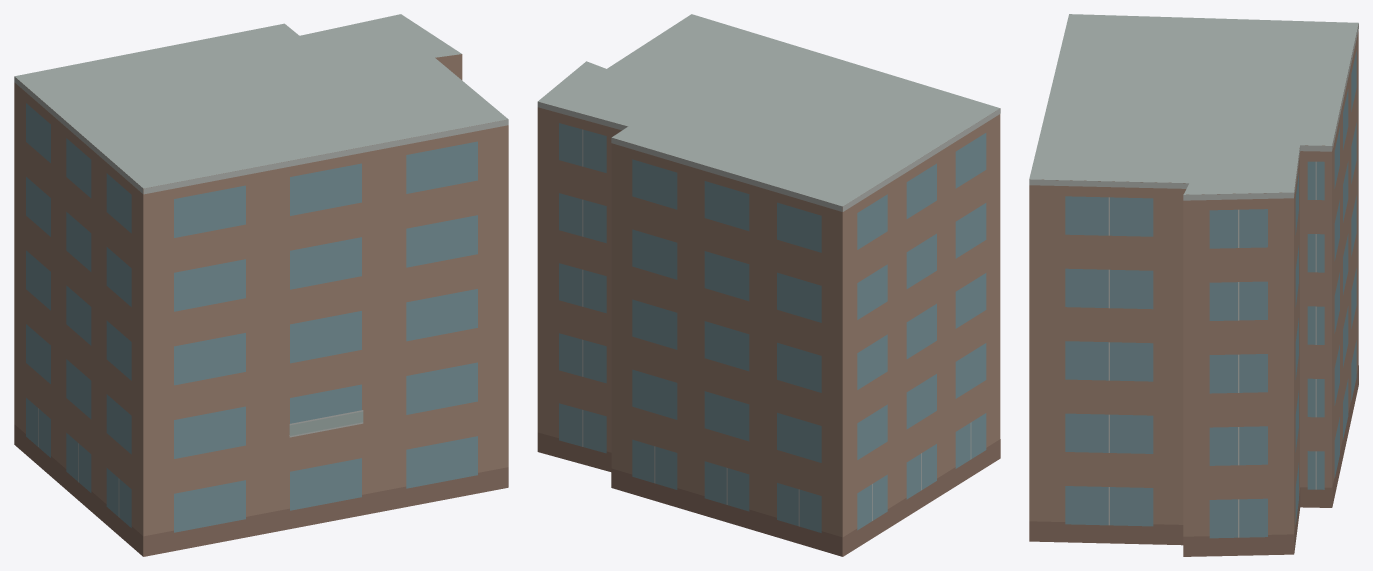
The model's file is survey-upis-32883065.glb.
3 renders of one model, left to right at view 1: azimuth 30°, elevation 25°; view 2: azimuth 150°, elevation 25°; view 3: azimuth 270°, elevation 25°, orthographic. The views are drawn at different scales.
Visible parts, largest first — view 1: survey-upis-32883065.tmp; view 2: survey-upis-32883065.tmp; view 3: survey-upis-32883065.tmp.
Part boxes in pixels (x1,y1,x2,y2): survey-upis-32883065.tmp: [14, 14, 508, 556]; survey-upis-32883065.tmp: [537, 14, 1000, 556]; survey-upis-32883065.tmp: [1029, 14, 1358, 556].
Size of the model in its own units: 16.35 by 15.25 by 12.6.
